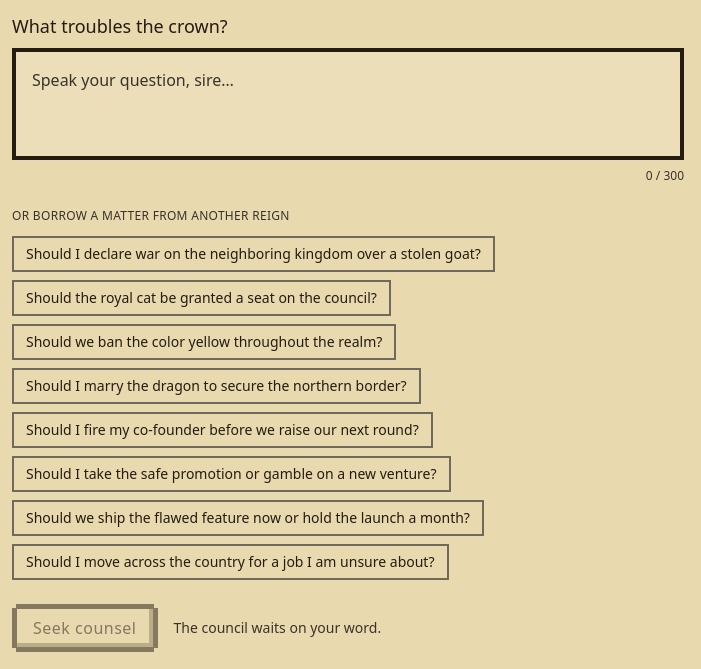
Test case: QuestionComposer › disables submit until the question is non-empty
Expected: the button "Seek counsel" is disabled, [16, 608, 154, 648]
Type "Should we march on Harrow?" into the text box at (348, 104), box [12, 48, 684, 160]
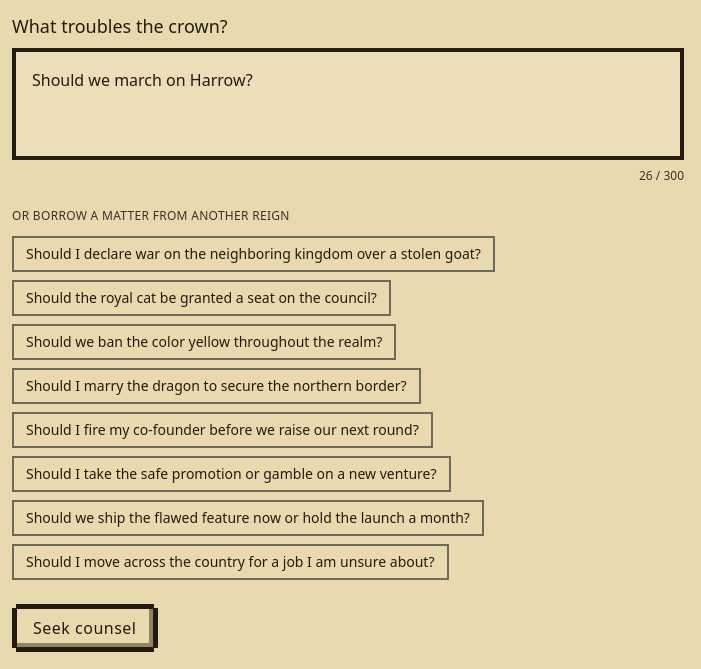
Result: the button "Seek counsel" is enabled at [16, 608, 154, 648]
